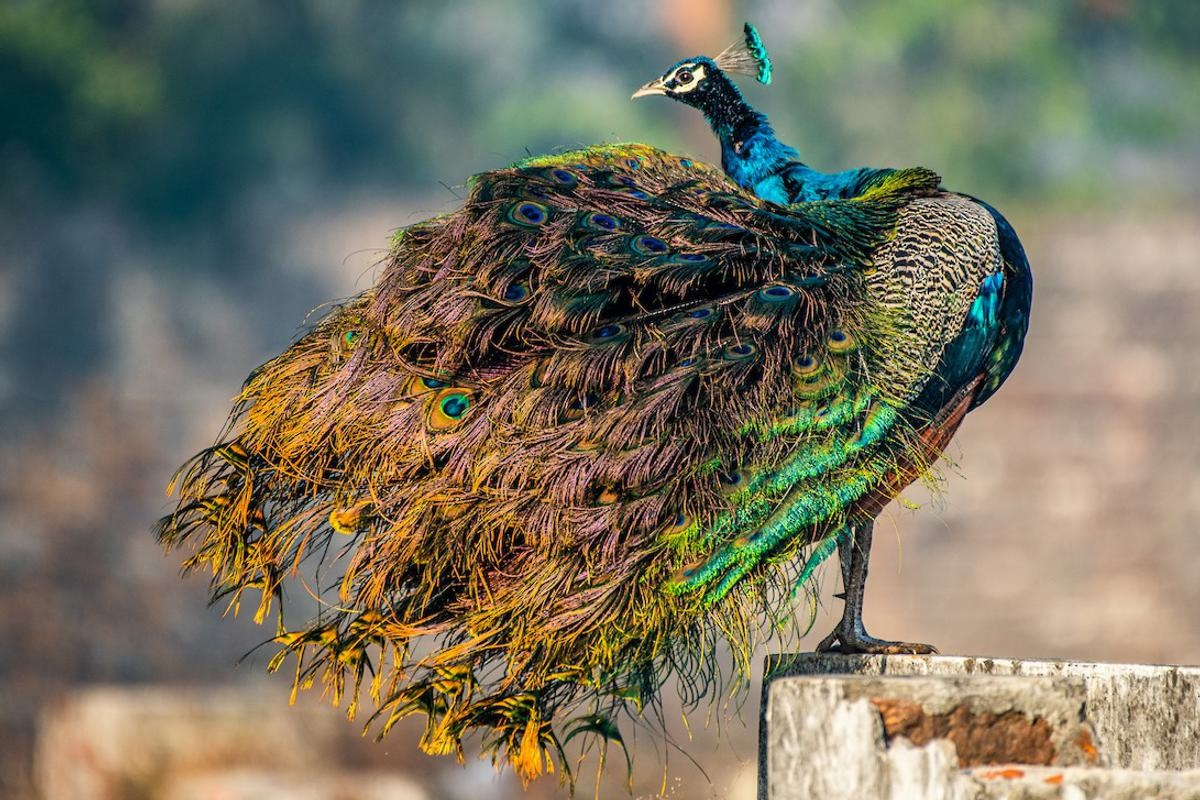peacock: (230, 24, 1039, 705)
